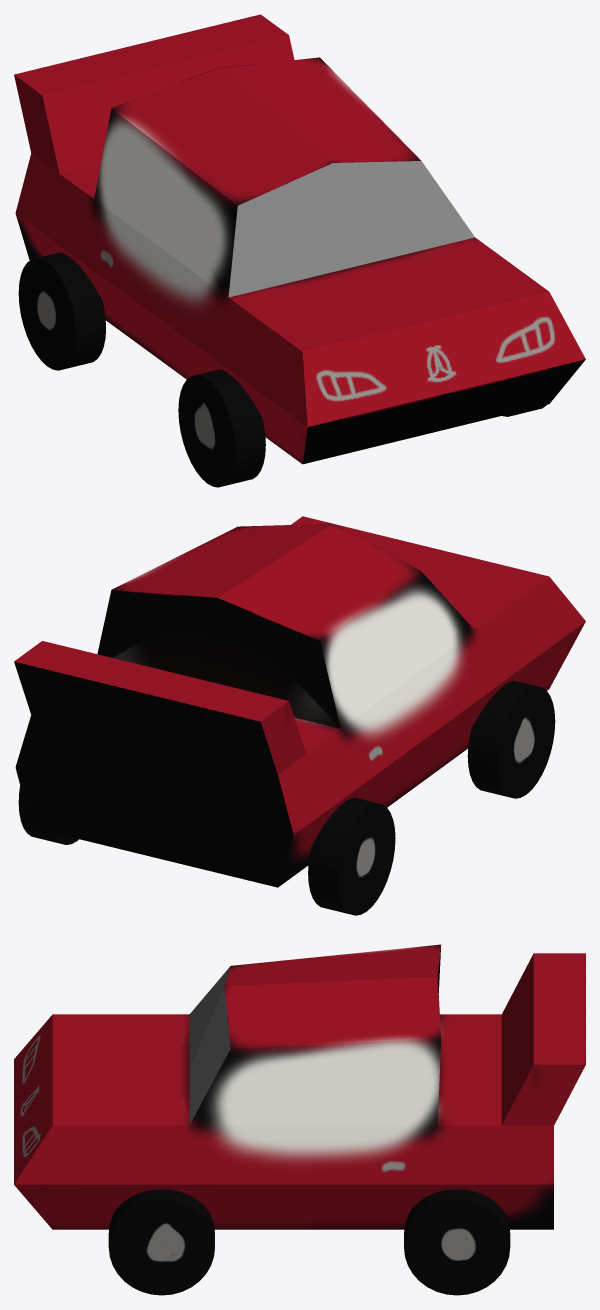
The model's file is cute_car_tex.fbx.
3 views of the same model, one above another, from view 1: azimuth 30°, elevation 25°; view 2: azimuth 150°, elevation 25°; view 3: azimuth 270°, elevation 25° (orthographic). The views are drawn at different scales.
Visible parts, largest first — view 1: CuteCar; view 2: CuteCar; view 3: CuteCar.
Part boxes in pixels (x1=…): CuteCar: x1=14, y1=14, x2=585, y2=487; CuteCar: x1=14, y1=516, x2=585, y2=915; CuteCar: x1=14, y1=944, x2=585, y2=1295.
Bounding box in the file's own units: 195 × 156 × 327.
